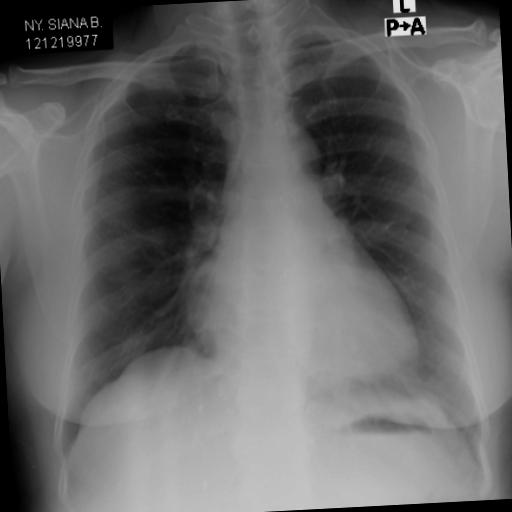kardiomegali: (176, 210, 434, 412)
